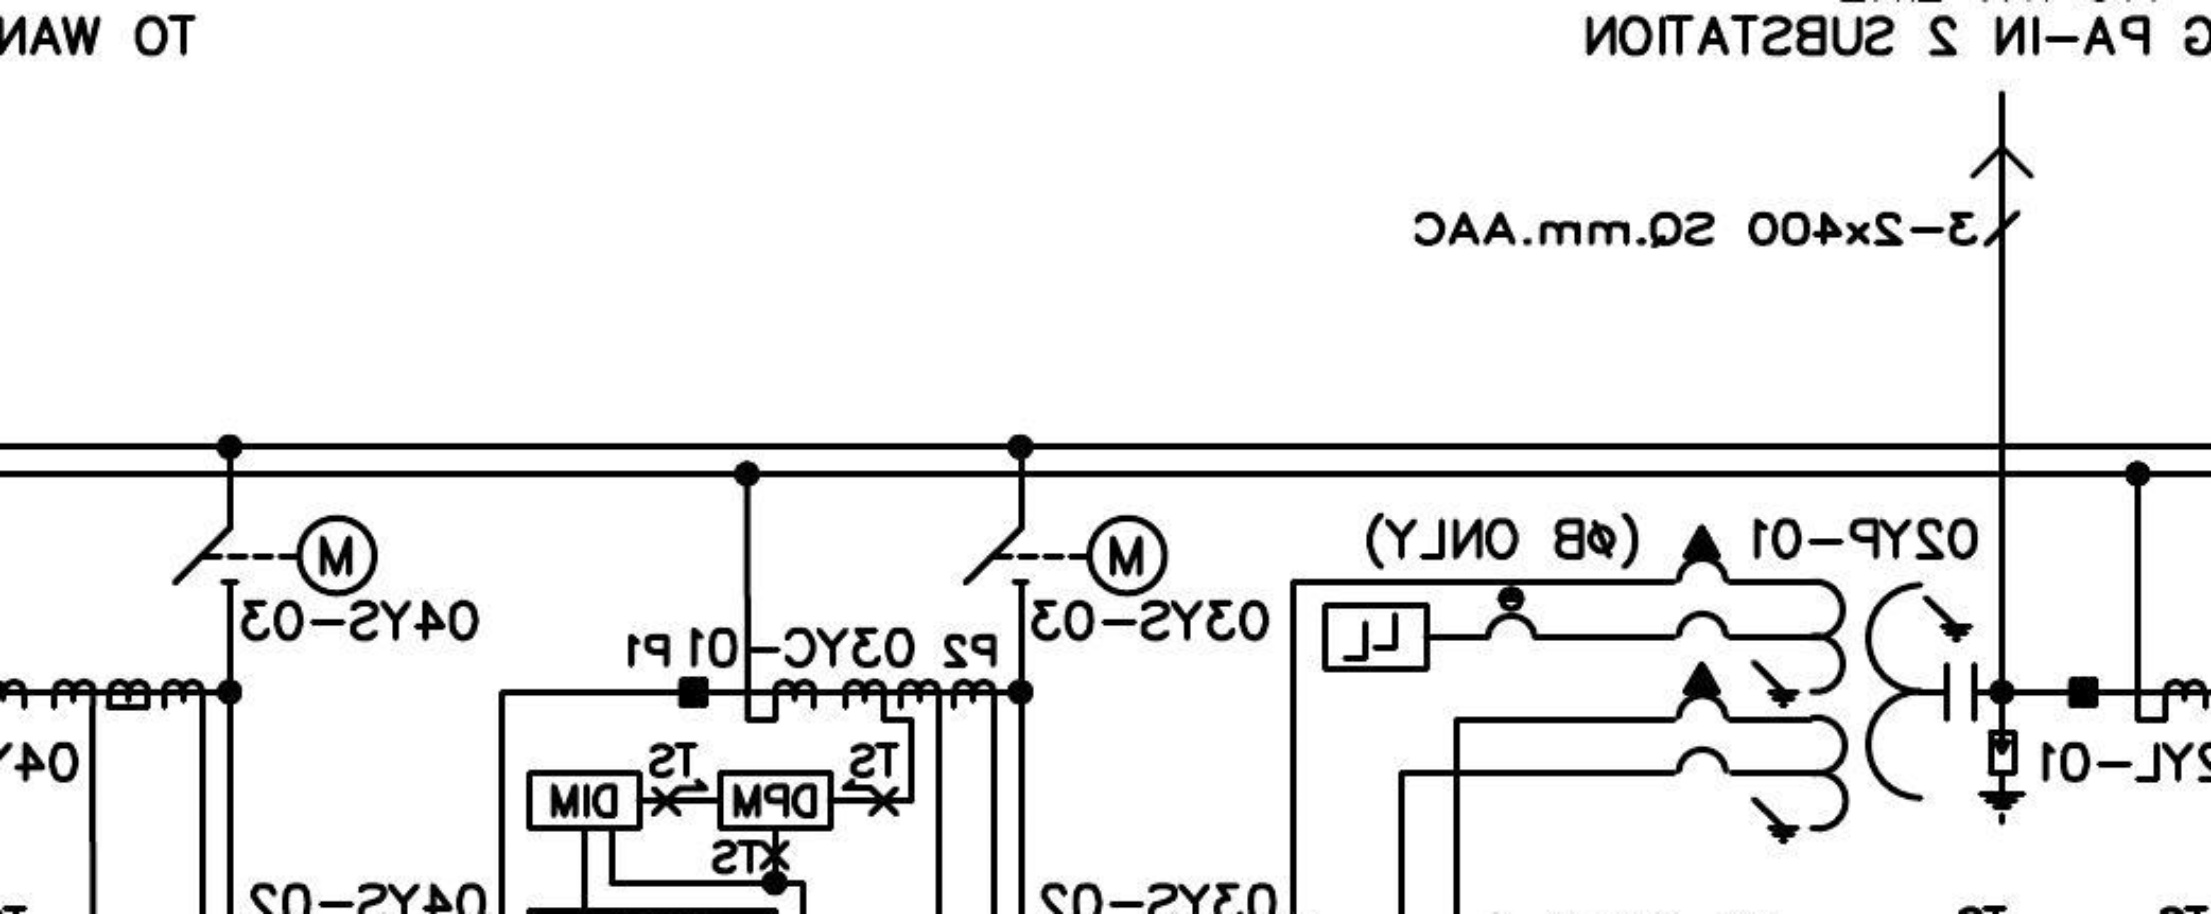115_1way_ds_w_motor: (960, 512, 1170, 598), (171, 512, 379, 598)
115_cvt_1p: (1671, 522, 1980, 846)
115_la: (1977, 729, 2028, 827)
DIM: (525, 769, 644, 831)
DPM: (716, 769, 835, 832)
LL: (1321, 602, 1431, 673)
